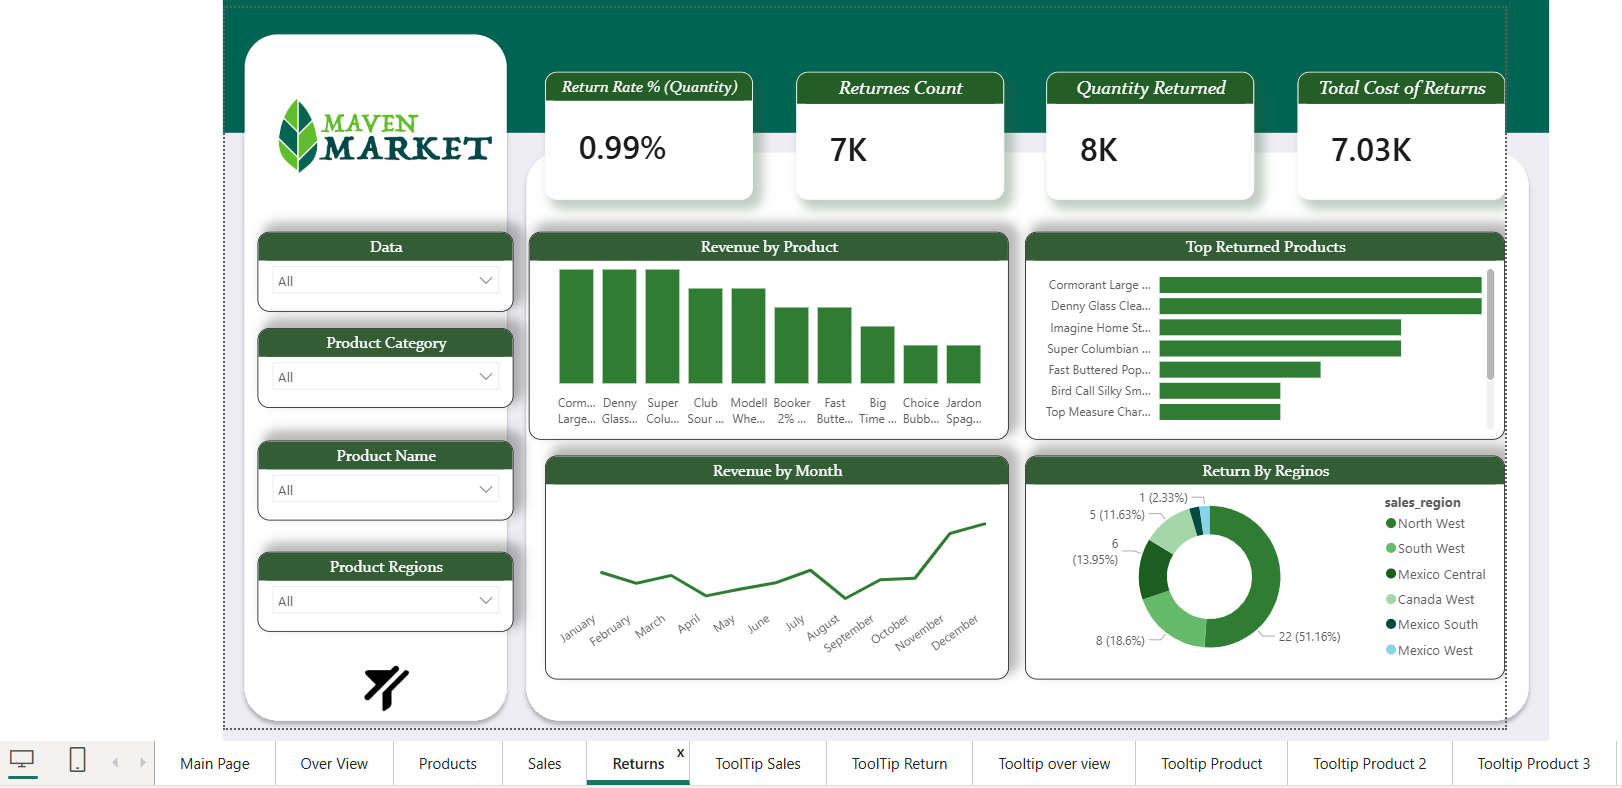

The page's visual inventory and layout, read from the dashboard file:
{"tool":"powerbi","page":{"name":"Returns","canvas":[1280,720],"ordinal":4},"visuals":[{"type":"image","box":[48,48,224,160],"z":0},{"type":"cardVisual","title":"Return Rate % (Quantity)","fields":{"Data":["_Measure.Return Rate % (Quantity)"]},"box":[320,64,208,128],"z":1000},{"type":"cardVisual","title":"Returnes Count","fields":{"Data":["_Measure.Returnes Count"]},"box":[570.7,64,208,128],"z":2000},{"type":"cardVisual","title":"Quantity Returned","fields":{"Data":["_Measure.Quantity Returned"]},"box":[821.3,64,208,128],"z":3000},{"type":"cardVisual","title":"Total Cost of Returns","fields":{"Data":["_Measure.Total Cost of Returns"]},"box":[1072,64,208,128],"z":4000},{"type":"clusteredBarChart","title":"Top Returned Products  ","fields":{"Category":["Dim_Products.product_name"],"Y":["_Measure.Quantity Returned"]},"box":[800,224,480,208],"z":5000},{"type":"clusteredColumnChart","title":"Revenue by Product","fields":{"Category":["Dim_Products.product_name"],"Y":["_Measure.Returnes Count"]},"box":[304,224,480,208],"z":6000},{"type":"donutChart","title":"Return By Reginos","fields":{"Y":["_Measure.Returnes Count"],"Category":["Dim_Regions.sales_region"]},"box":[800,448,480,224],"z":7000},{"type":"slicer","title":"Data ","fields":{"Values":["Dim_Calendar.Year","Dim_Calendar.Month"]},"box":[32,224,256,80],"z":8000},{"type":"slicer","title":"Product Category","fields":{"Values":["Dim_Products.product_brand"]},"box":[32,320,256,80],"z":9000},{"type":"slicer","title":"Product Name ","fields":{"Values":["Dim_Products.product_name"]},"box":[32,432,256,80],"z":10000},{"type":"slicer","title":"Product Regions","fields":{"Values":["Dim_Regions.sales_region"]},"box":[32,544,256,80],"z":11000},{"type":"image","box":[112,656,96,48],"z":12000},{"type":"lineChart","title":"Revenue by Month","fields":{"Category":["Dim_Calendar.Month"],"Y":["_Measure.Returnes Count"]},"box":[320,448,464,224],"z":13000}]}

Visuals, with their boxes on the page's 1280x720 design canvas (x1, y1, x2, y2). These are canvas units, not pixel positions in the 1622x788 screenshot, which may show the page scaled, cropped or inside an application window:
image: BBox(48, 48, 272, 208)
"Return Rate % (Quantity)" cardVisual: BBox(320, 64, 528, 192)
"Returnes Count" cardVisual: BBox(571, 64, 779, 192)
"Quantity Returned" cardVisual: BBox(821, 64, 1029, 192)
"Total Cost of Returns" cardVisual: BBox(1072, 64, 1280, 192)
"Top Returned Products  " clusteredBarChart: BBox(800, 224, 1280, 432)
"Revenue by Product" clusteredColumnChart: BBox(304, 224, 784, 432)
"Return By Reginos" donutChart: BBox(800, 448, 1280, 672)
"Data " slicer: BBox(32, 224, 288, 304)
"Product Category" slicer: BBox(32, 320, 288, 400)
"Product Name " slicer: BBox(32, 432, 288, 512)
"Product Regions" slicer: BBox(32, 544, 288, 624)
image: BBox(112, 656, 208, 704)
"Revenue by Month" lineChart: BBox(320, 448, 784, 672)
